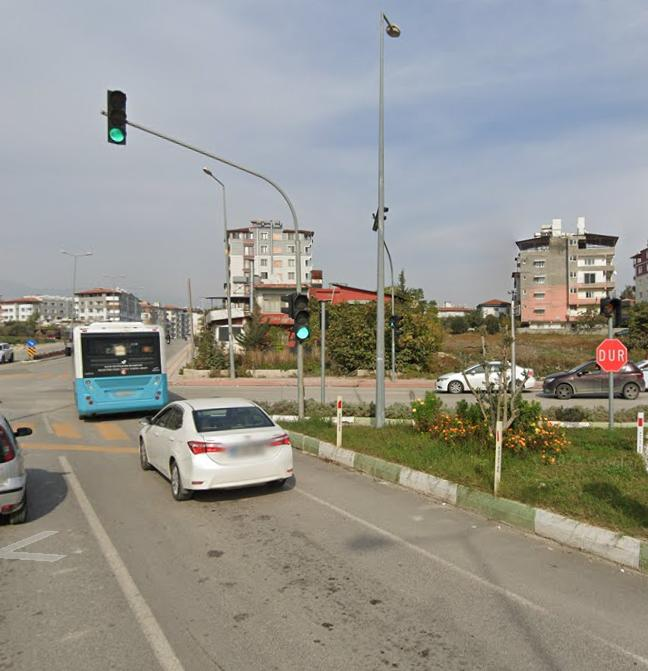greenlight: (291, 293, 313, 344), (110, 90, 127, 143)
